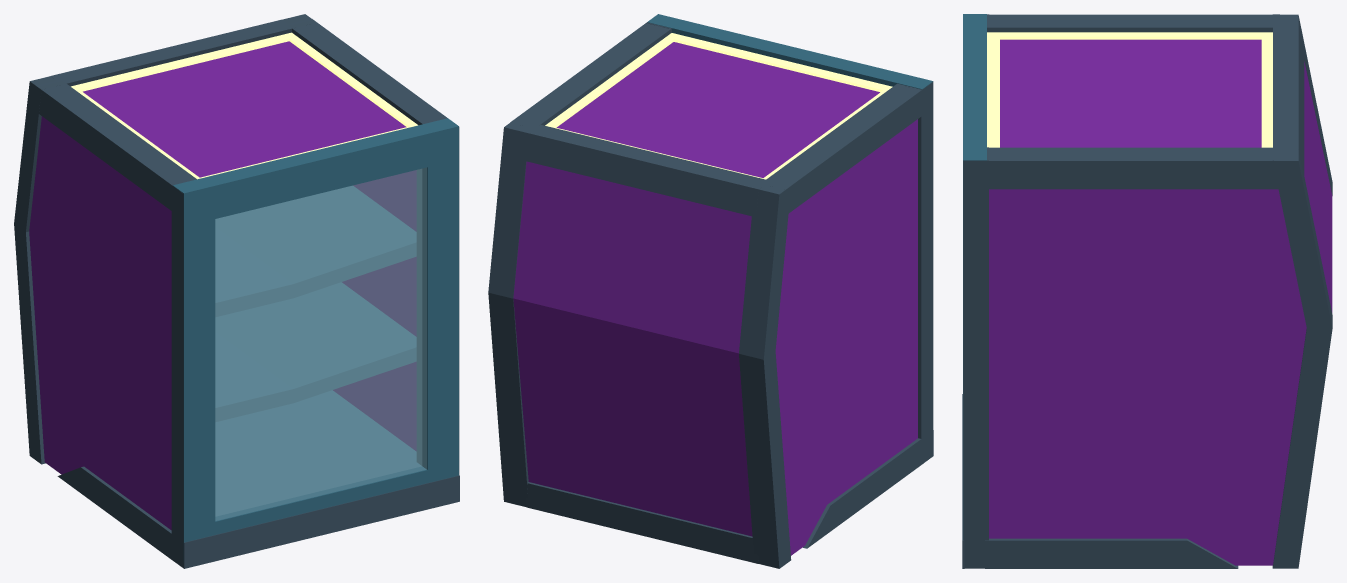
The model's file is bedside_table_tier20.fbx.
3 renders of one model, left to right at view 1: azimuth 30°, elevation 25°; view 2: azimuth 150°, elevation 25°; view 3: azimuth 270°, elevation 25°, orthographic. The views are drawn at different scales.
Visible parts, largest first — view 1: Cube, Cube.022, Cube.001, Cube.017, Cube.006, Cube.005, Cube.012, Cube.011, Cube.013, Cube.021, Cube.004, Cube.003 (+3 smaller); view 2: Cube.008, Cube.022, Cube.017, Cube.004, Cube.010, Cube.019, Cube.021, Cube.014, Cube.003, Cube.001, Cube.020, Cube.016; view 3: Cube.011, Cube.017, Cube.020, Cube.010, Cube.009, Cube.015, Cube.021, Cube.019, Cube.001, Cube.008, Cube.004.
Part boxes in pixels (left/top/right/bottom): Cube: left=215, top=168, right=426, bottom=520; Cube.022: left=29, top=116, right=171, bottom=530; Cube.001: left=173, top=118, right=458, bottom=562; Cube.017: left=71, top=32, right=417, bottom=179; Cube.006: left=215, top=282, right=416, bottom=421; Cube.005: left=215, top=185, right=416, bottom=316; Cube.012: left=215, top=390, right=416, bottom=510; Cube.011: left=333, top=170, right=416, bottom=451; Cube.013: left=183, top=475, right=459, bottom=568; Cube.021: left=36, top=81, right=196, bottom=210; Cube.004: left=14, top=76, right=65, bottom=464; Cube.003: left=171, top=179, right=196, bottom=568; Cube.008: left=513, top=161, right=752, bottom=536; Cube.022: left=775, top=119, right=917, bottom=555; Cube.017: left=545, top=33, right=892, bottom=179; Cube.004: left=739, top=179, right=791, bottom=568; Cube.010: left=488, top=118, right=540, bottom=507; Cube.019: left=524, top=124, right=766, bottom=217; Cube.021: left=764, top=84, right=921, bottom=213; Cube.014: left=526, top=482, right=758, bottom=563; Cube.003: left=897, top=82, right=933, bottom=464; Cube.001: left=647, top=14, right=933, bottom=89; Cube.020: left=510, top=23, right=670, bottom=128; Cube.016: left=803, top=438, right=921, bottom=548; Cube.011: left=989, top=189, right=1306, bottom=565; Cube.017: left=987, top=32, right=1272, bottom=147; Cube.020: left=985, top=147, right=1284, bottom=189; Cube.010: left=1272, top=147, right=1332, bottom=568; Cube.009: left=963, top=147, right=988, bottom=568; Cube.015: left=985, top=538, right=1238, bottom=568; Cube.021: left=987, top=14, right=1284, bottom=32; Cube.019: left=1273, top=25, right=1304, bottom=175; Cube.001: left=963, top=14, right=986, bottom=539; Cube.008: left=1304, top=61, right=1332, bottom=312; Cube.004: left=1272, top=14, right=1332, bottom=195.
Bounding box in the file's own units: 77.73 × 101 × 83.
